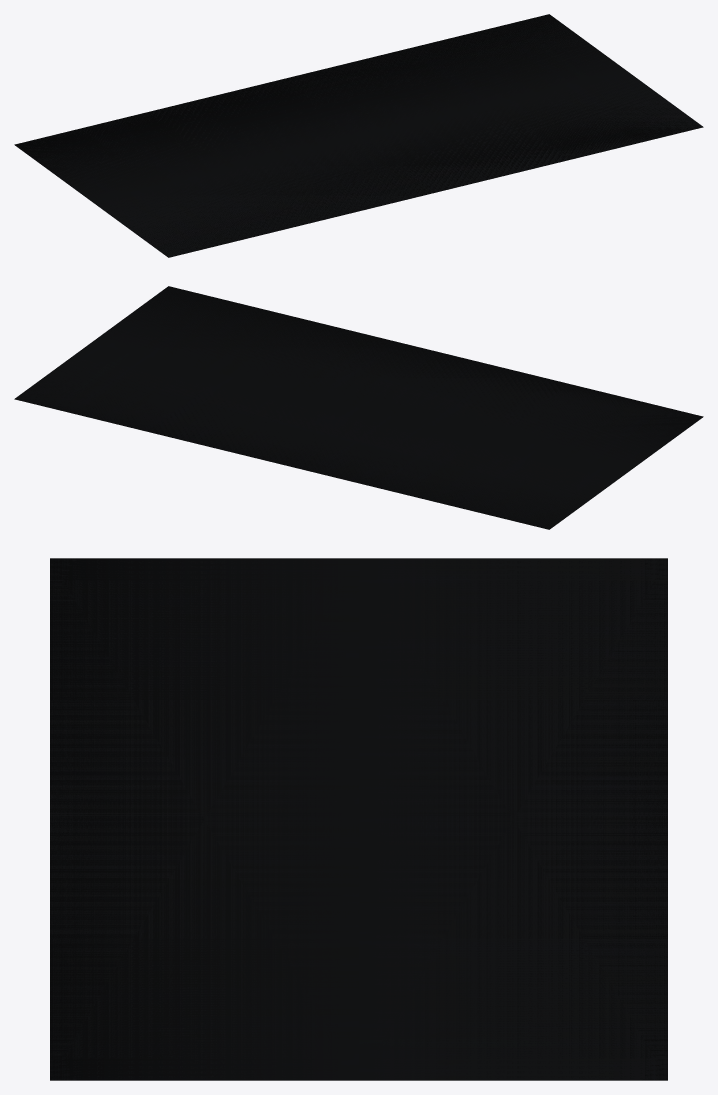
The picture shows the model from 3 angles, top to bottom: view 1: azimuth 30°, elevation 25°; view 2: azimuth 150°, elevation 25°; view 3: azimuth 270°, elevation 25°; orthographic projection. The views are drawn at different scales.
Bounding box in the file's own units: 0.96 × 0 × 0.48.
Materials: 1 (1 with a texture image).
